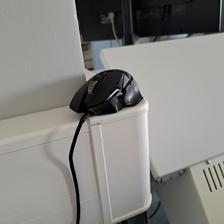mouse: (68, 68, 143, 117)
